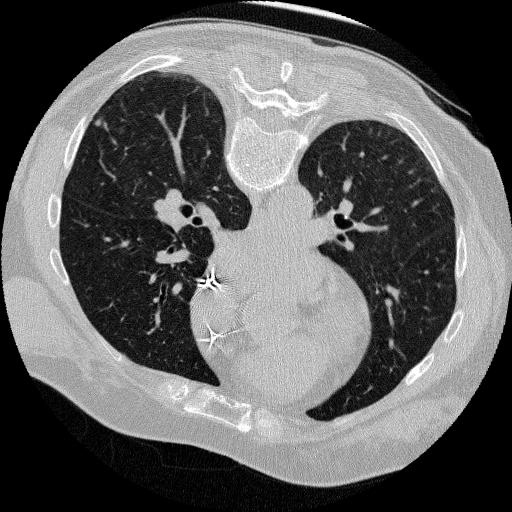nodule: (90, 116, 103, 129)
